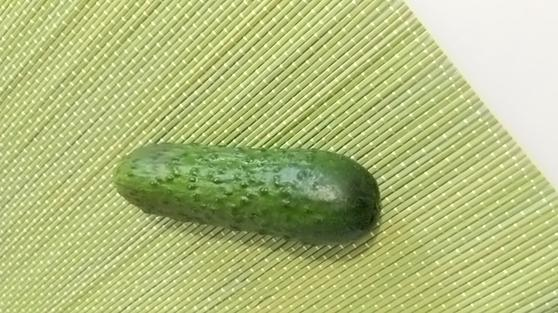cucumber: (114, 140, 381, 238)
